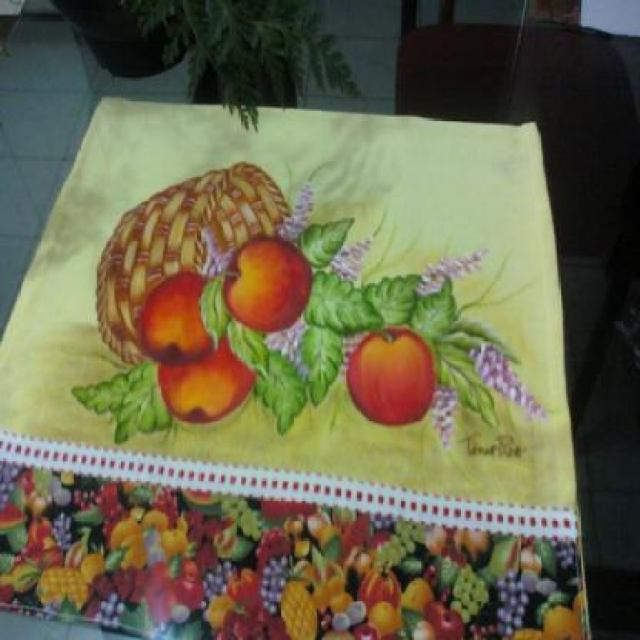Apple pie: (154, 332, 255, 423), (338, 335, 434, 427), (136, 270, 228, 366), (222, 240, 314, 332), (147, 582, 176, 630), (432, 608, 470, 640), (173, 572, 202, 606), (354, 621, 376, 639)
